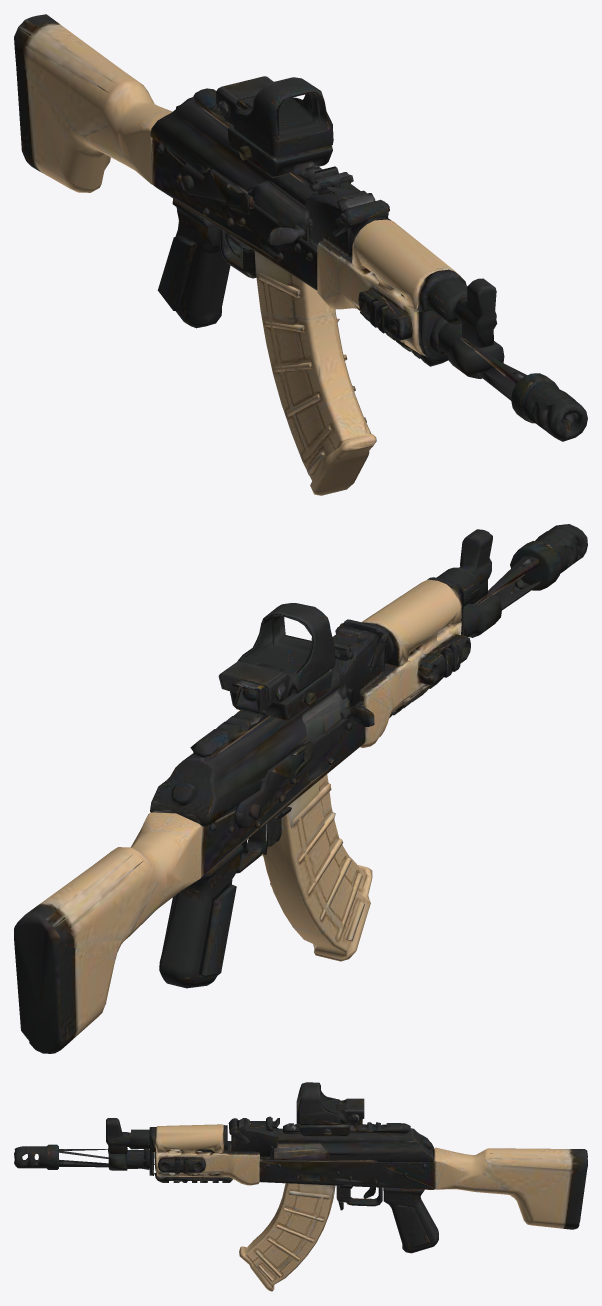
Rendered from assault_rifle.glb.
3 renders of one model, top to bottom at view 1: azimuth 30°, elevation 25°; view 2: azimuth 150°, elevation 25°; view 3: azimuth 270°, elevation 25°, orthographic. The views are drawn at different scales.
Parts seen in each view (by area): view 1: w_assault_rifle; view 2: w_assault_rifle; view 3: w_assault_rifle.
Boxes of the visible parts, x1,y1,x2,y2 form: w_assault_rifle: (14, 14, 587, 495); w_assault_rifle: (14, 524, 587, 1053); w_assault_rifle: (14, 1082, 587, 1291).
Size of the model in its own units: 0.0816 by 0.3181 by 0.82.
Materials: 1 (1 with a texture image).
